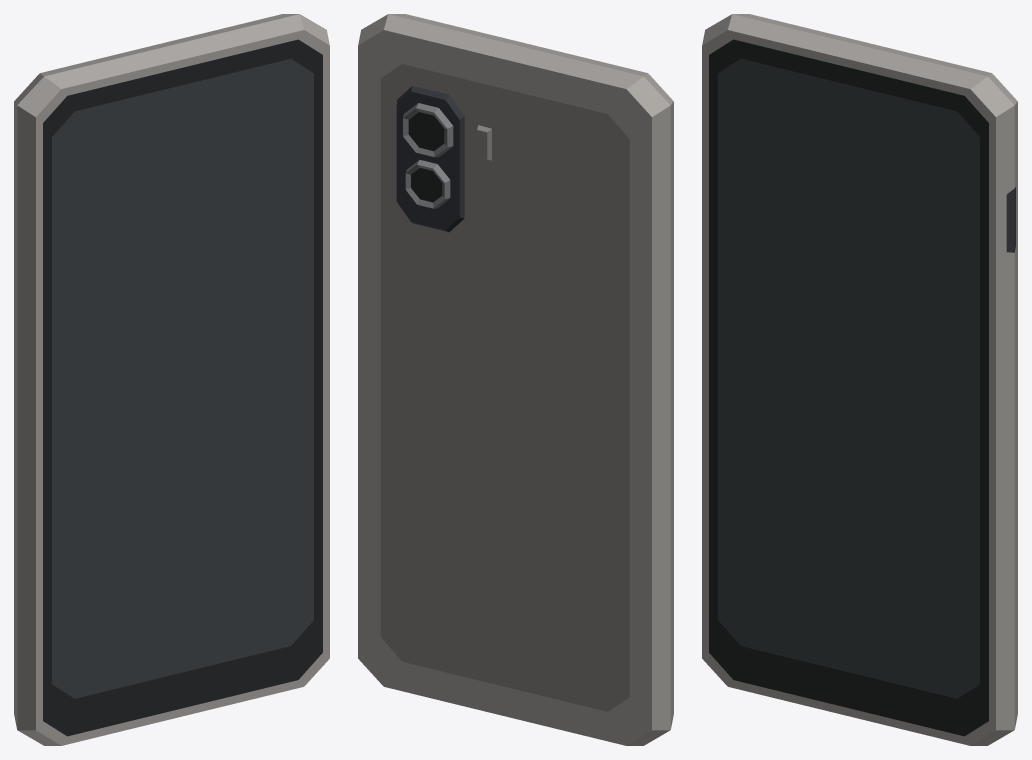
File: SM_Prop_Computer_Smartphone_01.obj
3 views of the same model, side by side, from view 1: azimuth 30°, elevation 25°; view 2: azimuth 150°, elevation 25°; view 3: azimuth 330°, elevation 25° (orthographic).
Visible parts, largest first — view 1: SM_Prop_Computer_Smartphone_01_0; view 2: SM_Prop_Computer_Smartphone_01_0; view 3: SM_Prop_Computer_Smartphone_01_0.
Boxes of the visible parts, x1=… form: SM_Prop_Computer_Smartphone_01_0: x1=14, y1=14, x2=329, y2=745; SM_Prop_Computer_Smartphone_01_0: x1=358, y1=14, x2=673, y2=745; SM_Prop_Computer_Smartphone_01_0: x1=702, y1=14, x2=1017, y2=745.
Size of the model in its own units: 0.1274 by 0.2632 by 0.0199.
Materials: 1 (1 with a texture image).
